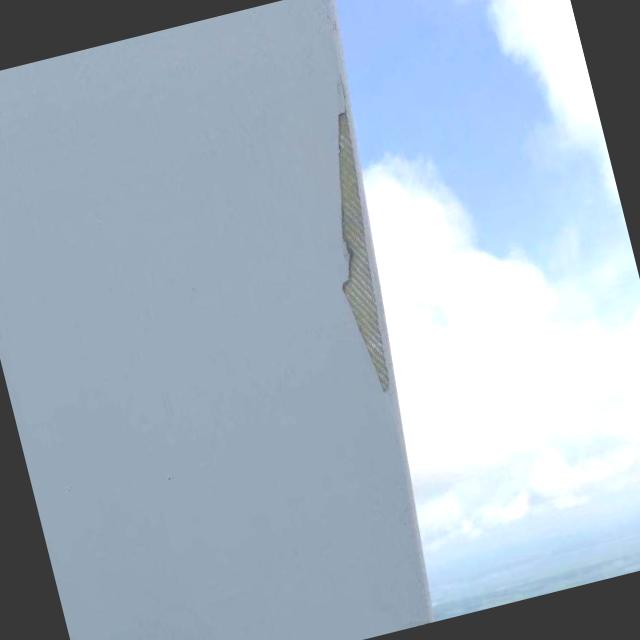surface_peeling: (298, 109, 415, 398)
